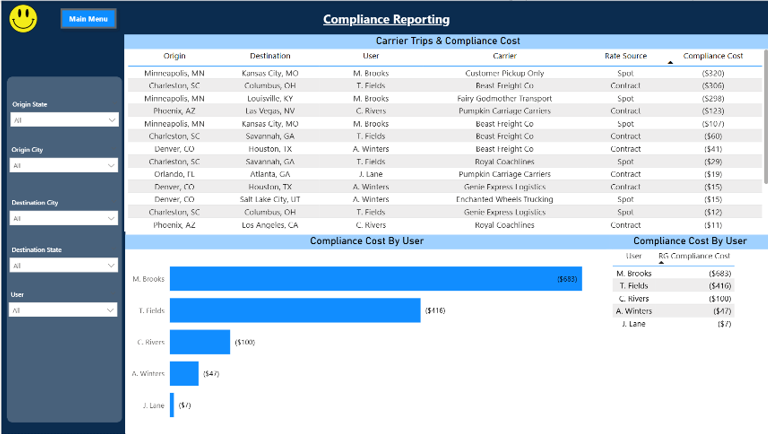

This screenshot's page, from the dashboard's own definition file:
{"tool":"powerbi","page":{"name":"Compliance Reporting","canvas":[1280,720],"ordinal":2},"visuals":[{"type":"shape","title":"Page Title","box":[0,0,1280,59.4],"z":0},{"type":"actionButton","box":[88.7,3.6,111,51],"z":1000},{"type":"shape","box":[0,58.4,206.3,661.2],"z":2000},{"type":"shape","box":[9,127,191,574],"z":3000},{"type":"slicer","title":"Origin City Lookup Slicer","fields":{"Values":["tms TransportationLoadLevels.Origin City"]},"box":[4.6,235.1,199.8,61.5],"z":4000},{"type":"slicer","title":"Dest. City Lookup Slicer","fields":{"Values":["tms TransportationLoadLevels.Destination City"]},"box":[4.6,322.7,199.8,61.5],"z":5000},{"type":"slicer","title":"Dest. State Lookup Slicer","fields":{"Values":["tms TransportationLoadLevels.Destination State"]},"box":[4.6,401.1,199.8,61.5],"z":6000},{"type":"slicer","title":"User Lookup Slicer","fields":{"Values":["tms ReferenceTableLaneOwner.User"]},"box":[3.1,474.8,199.8,61.5],"z":7000},{"type":"slicer","title":"Origin State Lookup Slicer","fields":{"Values":["tms TransportationLoadLevels.Origin State"]},"box":[6.1,159.8,199.8,61.5],"z":8000},{"type":"tableEx","title":"Compliance Cost By User","fields":{"Values":["tms ReferenceTableLaneOwner.User","Measures Table.RG Compliance Cost"]},"box":[1009.6,389.1,270.4,330.7],"z":9000},{"type":"tableEx","title":"Carrier Trips & Compliance Cost","fields":{"Values":["tms TransportationLoadLevels.Origin","tms TransportationLoadLevels.Destination","tms ReferenceTableLaneOwner.User","tms TransportationLoadLevels.RG Low Cost Carrier","tms TransportationLoadLevels.Rate Source","Measures Table.RG Compliance Cost"]},"box":[204.4,56.9,1075.6,327.3],"z":10000},{"type":"barChart","title":"Compliance Cost By User","fields":{"Category":["tms ReferenceTableLaneOwner.User"],"Y":["Measures Table.RG Compliance Cost"]},"box":[206.2,389.1,803.4,330.7],"z":11000},{"type":"image","box":[8.8,0,56.4,59.3],"z":12000}]}

Visuals, with their boxes on the page's 1280x720 design canvas (x1, y1, x2, y2). These are canvas units, not pixel positions in the 768x448 screenshot, which may show the page scaled, cropped or inside an application window:
"Page Title" shape: [0,0,1280,59]
actionButton: [89,4,200,55]
shape: [0,58,206,720]
shape: [9,127,200,701]
"Origin City Lookup Slicer" slicer: [5,235,204,297]
"Dest. City Lookup Slicer" slicer: [5,323,204,384]
"Dest. State Lookup Slicer" slicer: [5,401,204,463]
"User Lookup Slicer" slicer: [3,475,203,536]
"Origin State Lookup Slicer" slicer: [6,160,206,221]
"Compliance Cost By User" tableEx: [1010,389,1280,720]
"Carrier Trips & Compliance Cost" tableEx: [204,57,1280,384]
"Compliance Cost By User" barChart: [206,389,1010,720]
image: [9,0,65,59]
